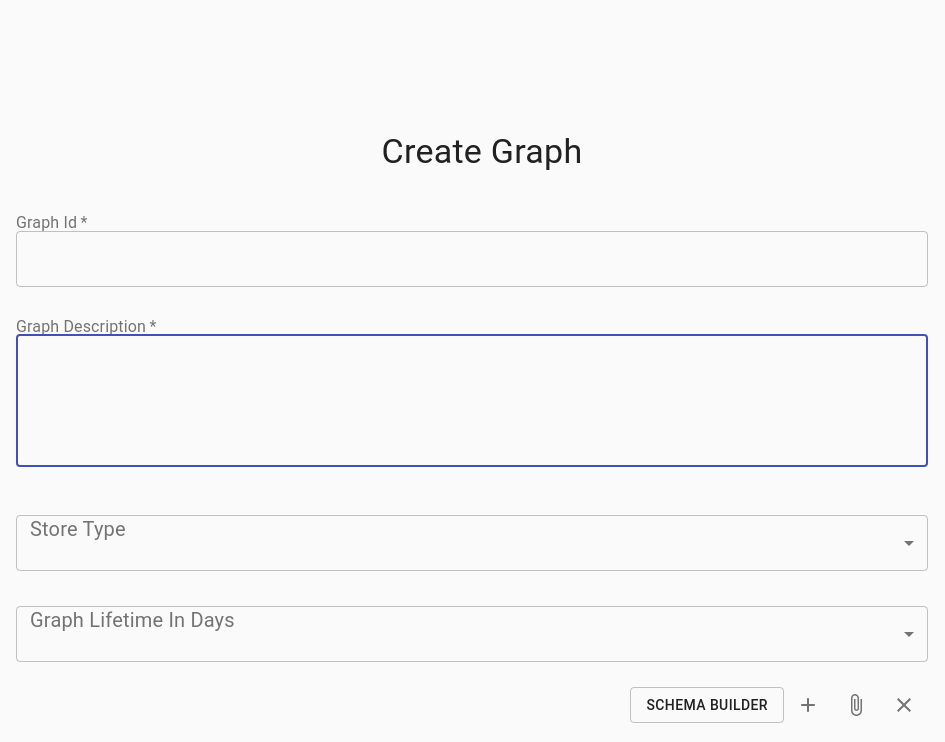
Test: CreateGraph UI component › When Federated StoreType Is Selected › Should add a graph to the graphs table when a URL is entered and the Add proxy button is clicked
Replace the text in the field named "store-type-select" with "federated" at (472, 543), box [16,515,928,571]
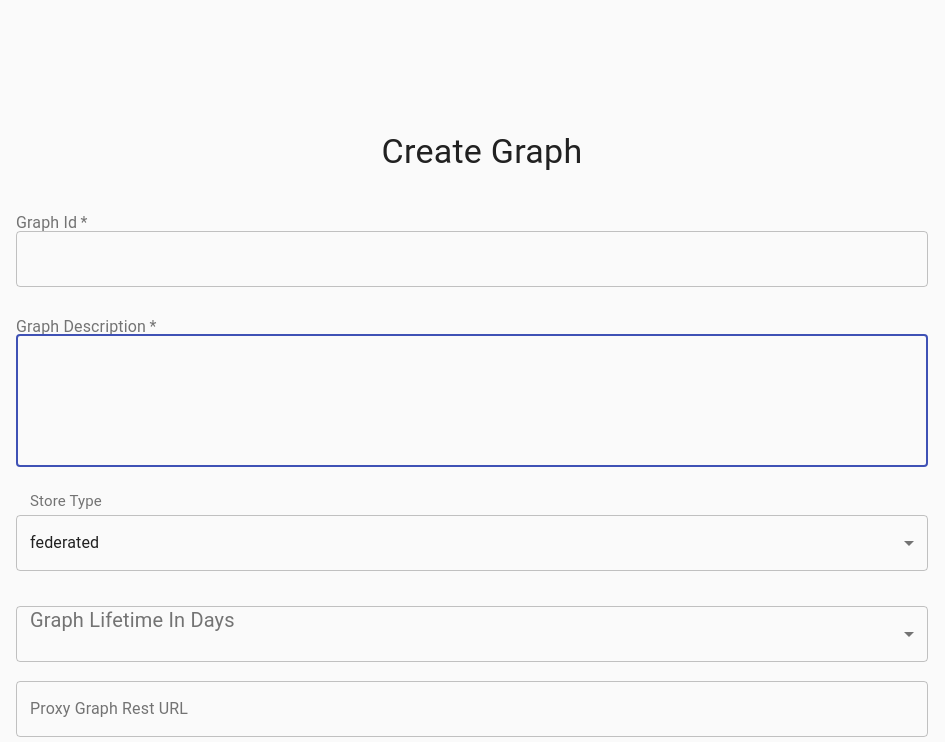
Type "http://resoucename-namespace.host-name/rest" into the field named "proxy-url-input".
click(472, 709); type("http://resoucename-namespace.host-name/rest")  # box [16,681,928,737]
(page scrolled)
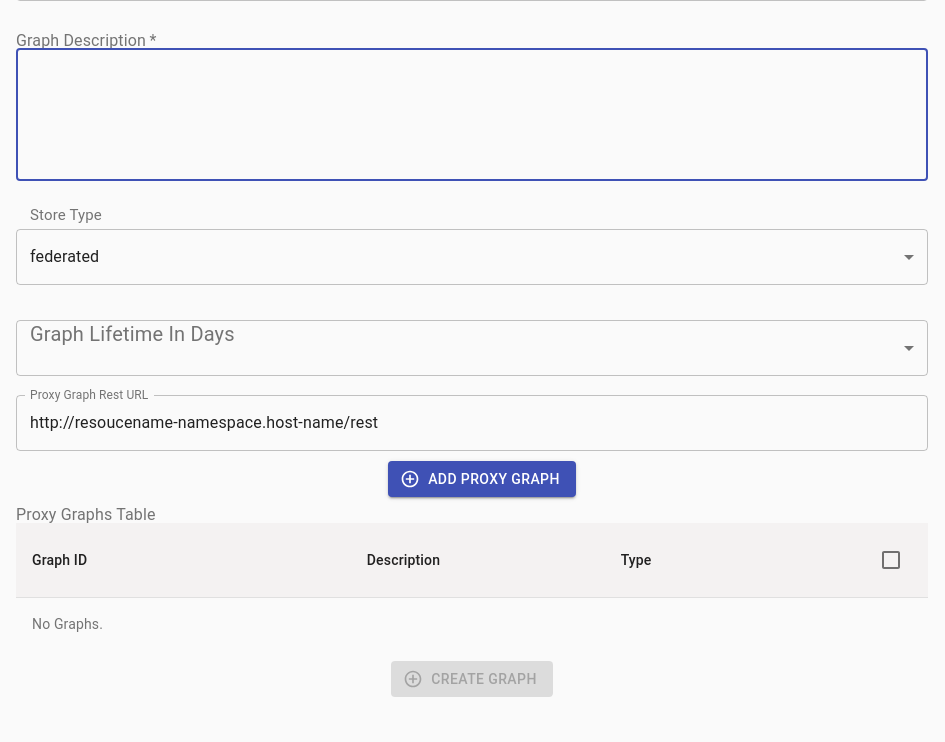
Click the button with id "add-new-proxy-button".
click(482, 479)  # box [388,461,576,498]
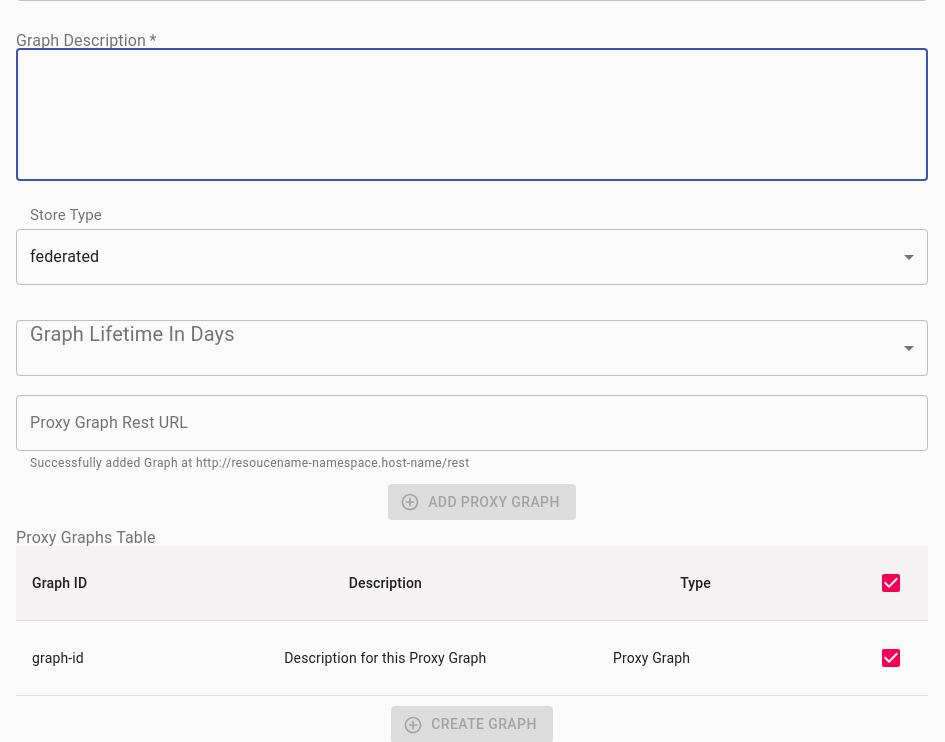
Check: the table reads "Graph ID Description Type graph-id Description for this Proxy Graph Proxy Graph", box [16,546,928,696]
